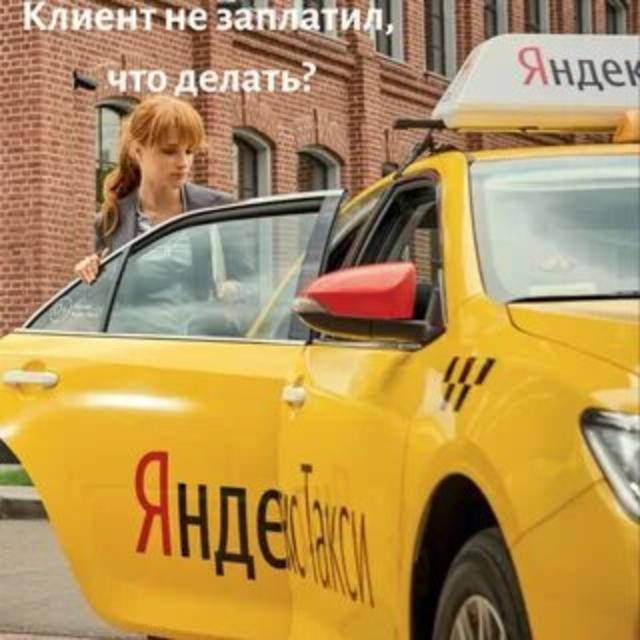taxi: (1, 31, 639, 639)
